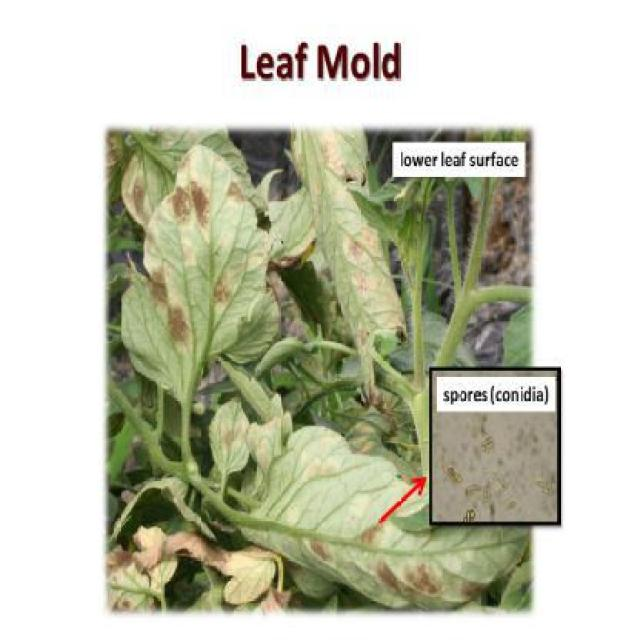Leaf Mold: (243, 413, 521, 606), (121, 141, 273, 410), (280, 133, 406, 387), (202, 396, 255, 484)
